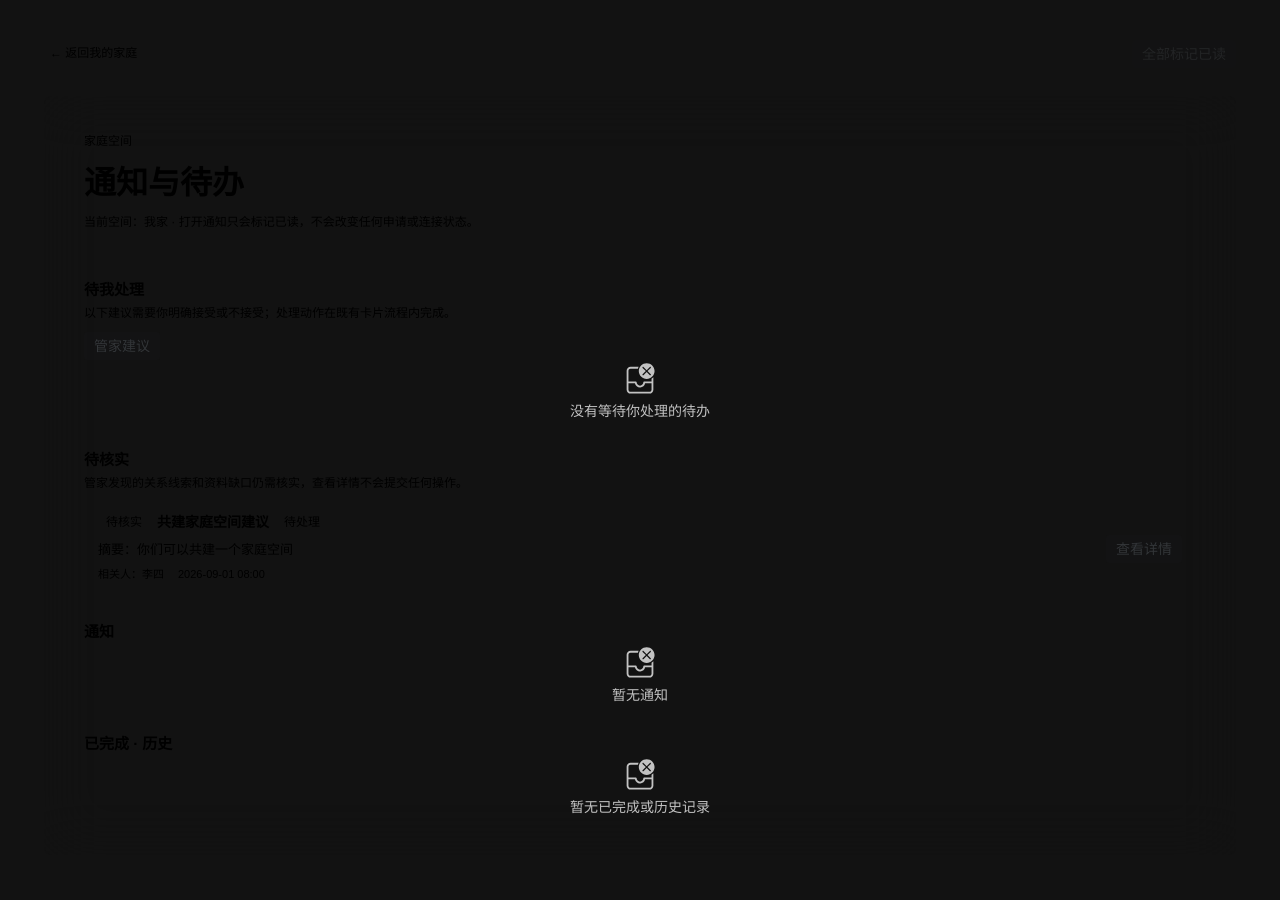
Test: NotificationsView（PRD §2.6：三分区 + 已读与 ActionCard 严格分离） › 提交后展示真实提案状态 proposed 与实际待确认人数
Click the button with test id "open-details" at x=1144, y=548, box top-left (1106, 534), bottom-right (1182, 562)
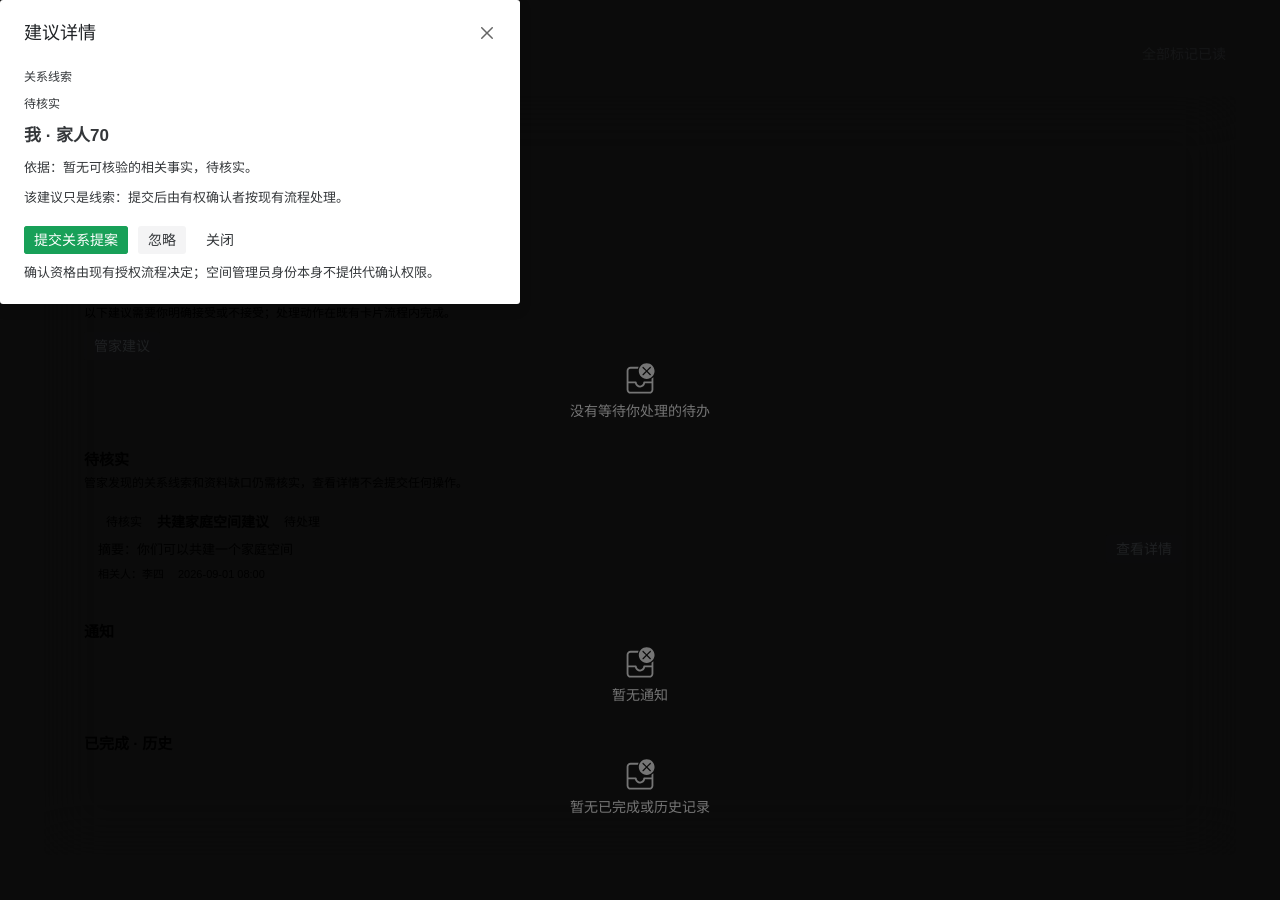
expect the button with test id "suggestion-submit" is shown: met
Click the button with test id "suggestion-submit" at x=76, y=240, box top-left (24, 226), bottom-right (128, 254)
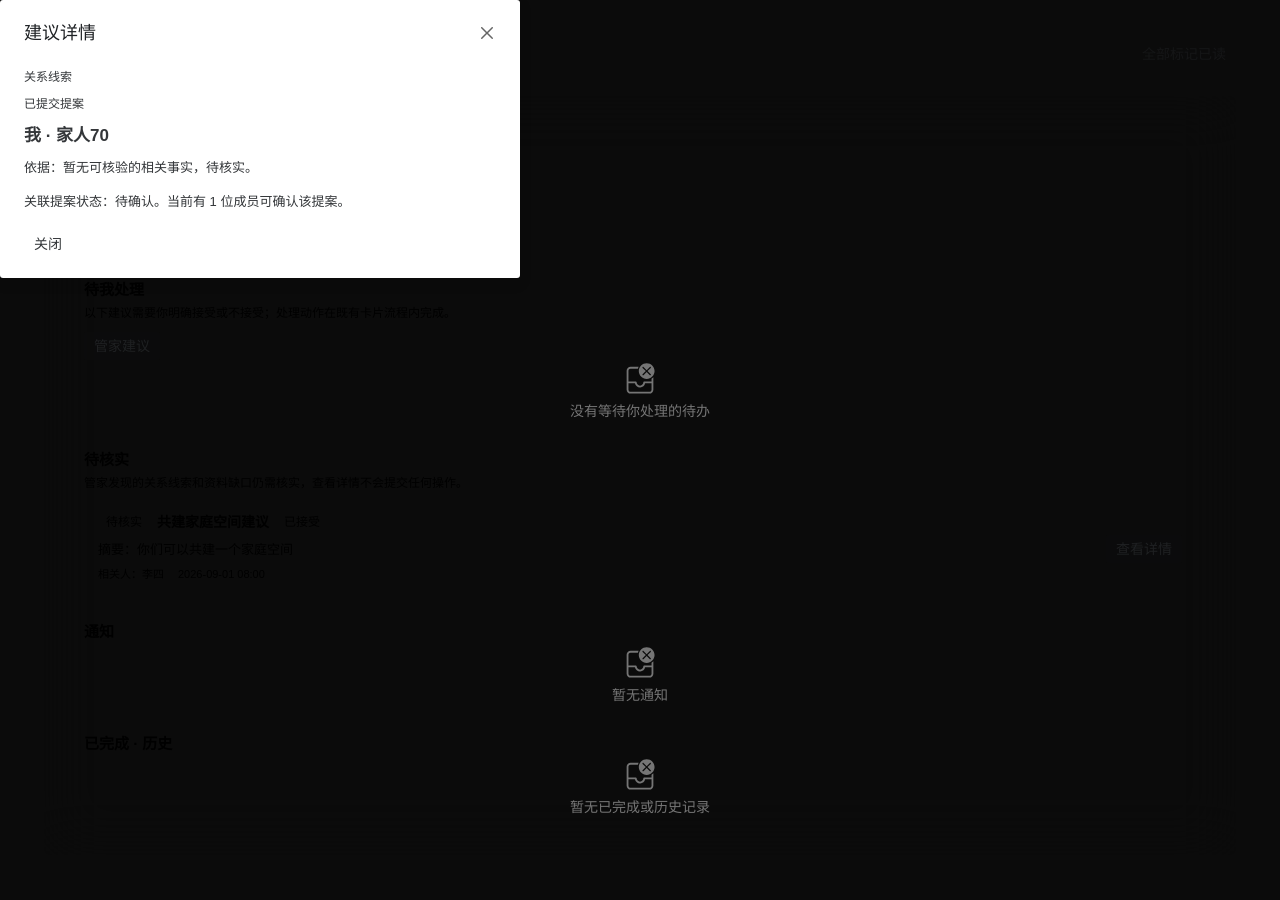
expect the text with test id "suggestion-proposal-state" shows "当前有 1 位成员可确认该提案": met, box top-left (24, 194), bottom-right (350, 210)
expect the button with test id "suggestion-submit" is gone: met
expect the button with test id "suggestion-dismiss" is gone: met
